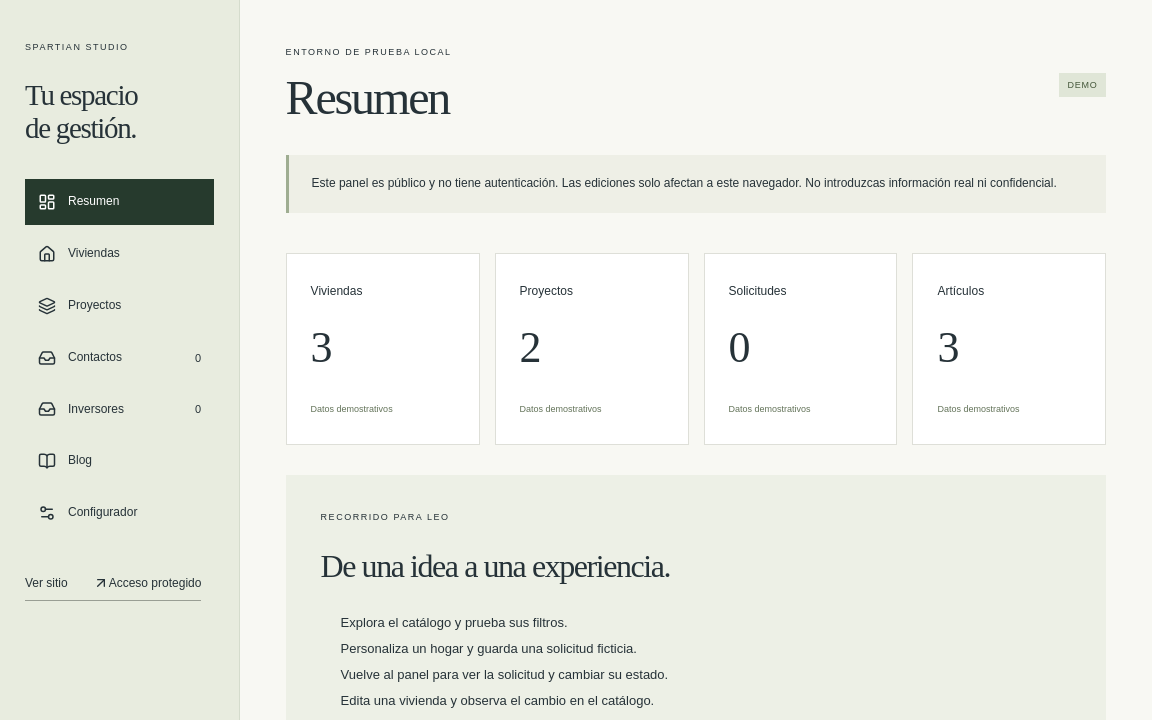
Scenario: Demo flows › prevents disabling the final option in a configurator category
The image size is (1152, 720).
Click the button "Configurador": coordinates (120, 513) [25,490,214,536]
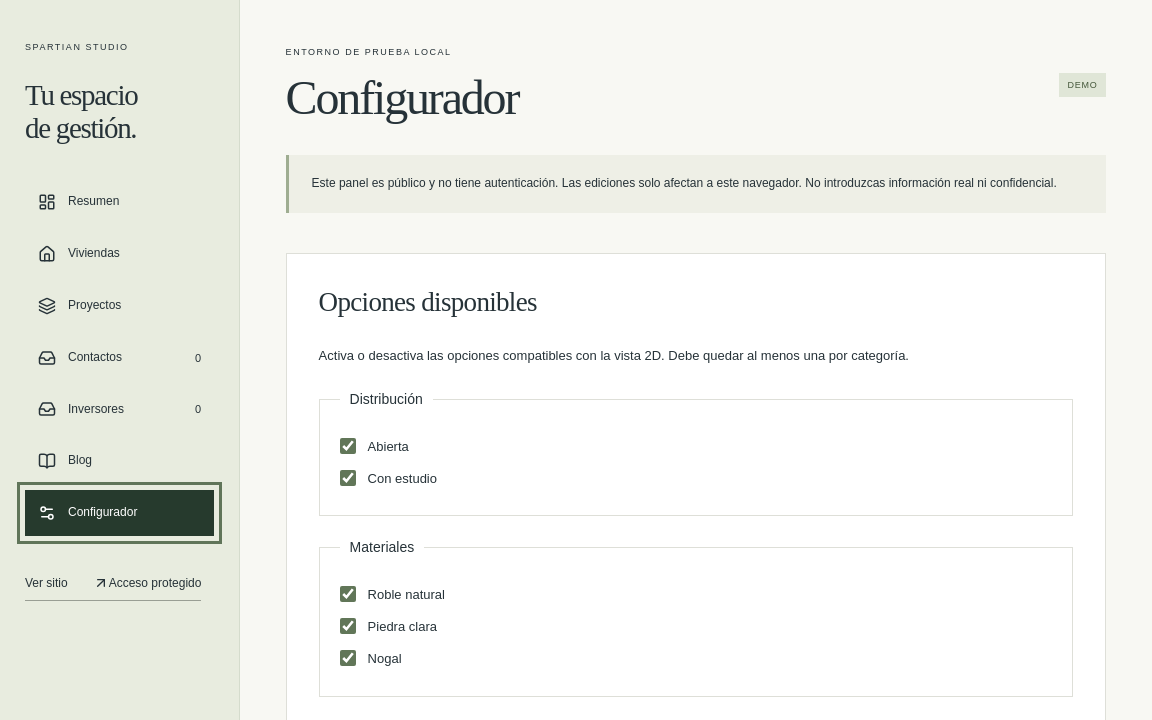
Click the checkbox labelled "Abierta": coordinates (348, 446) [340,438,356,454]
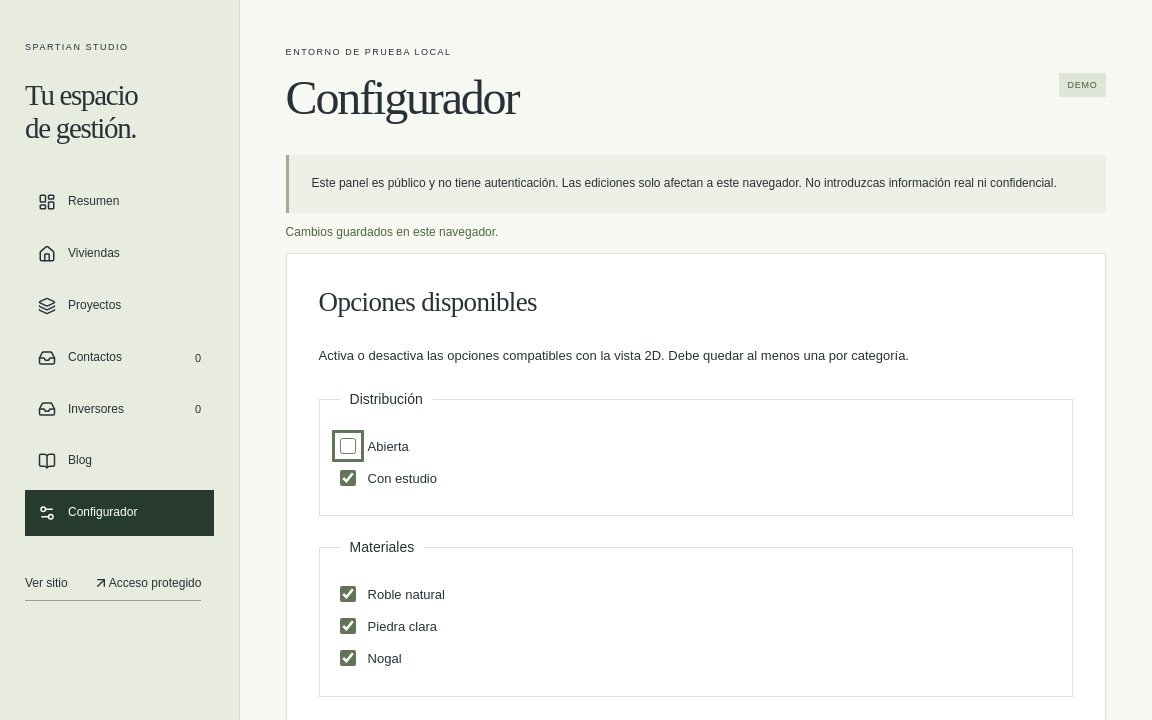
Click the checkbox labelled "Con estudio": coordinates (348, 478) [340,470,356,486]
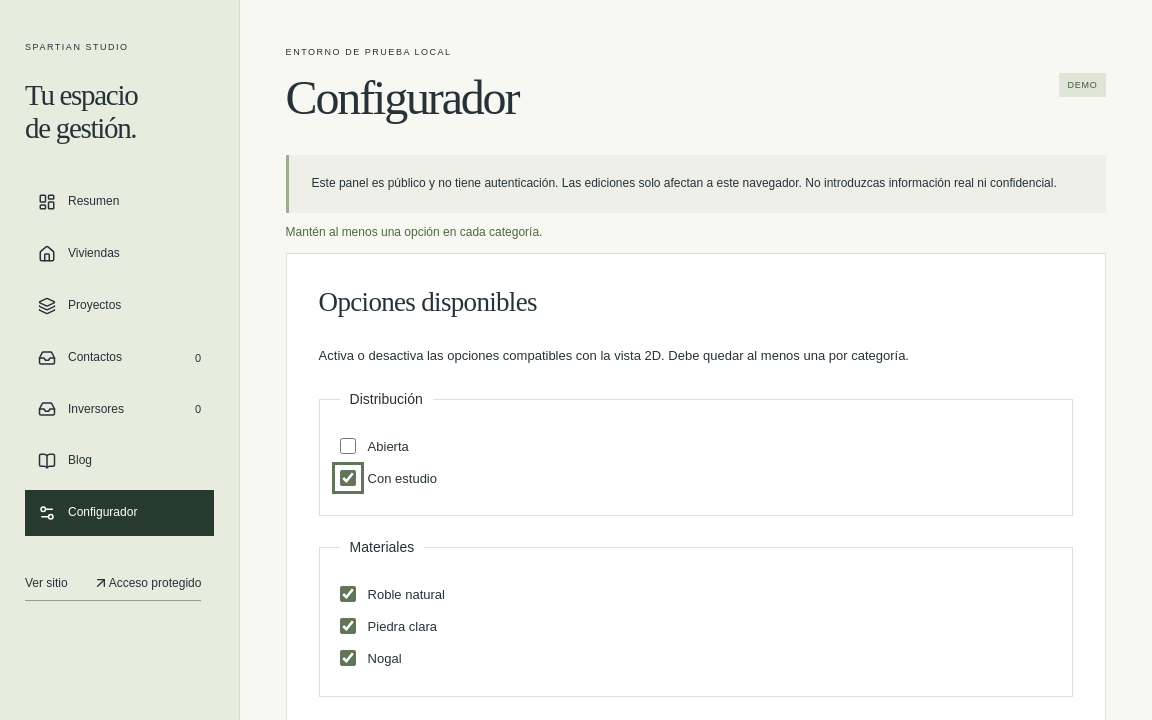
Expected: the text "Mantén al menos una opción en cada categoría." is shown, [286,225,542,239]
